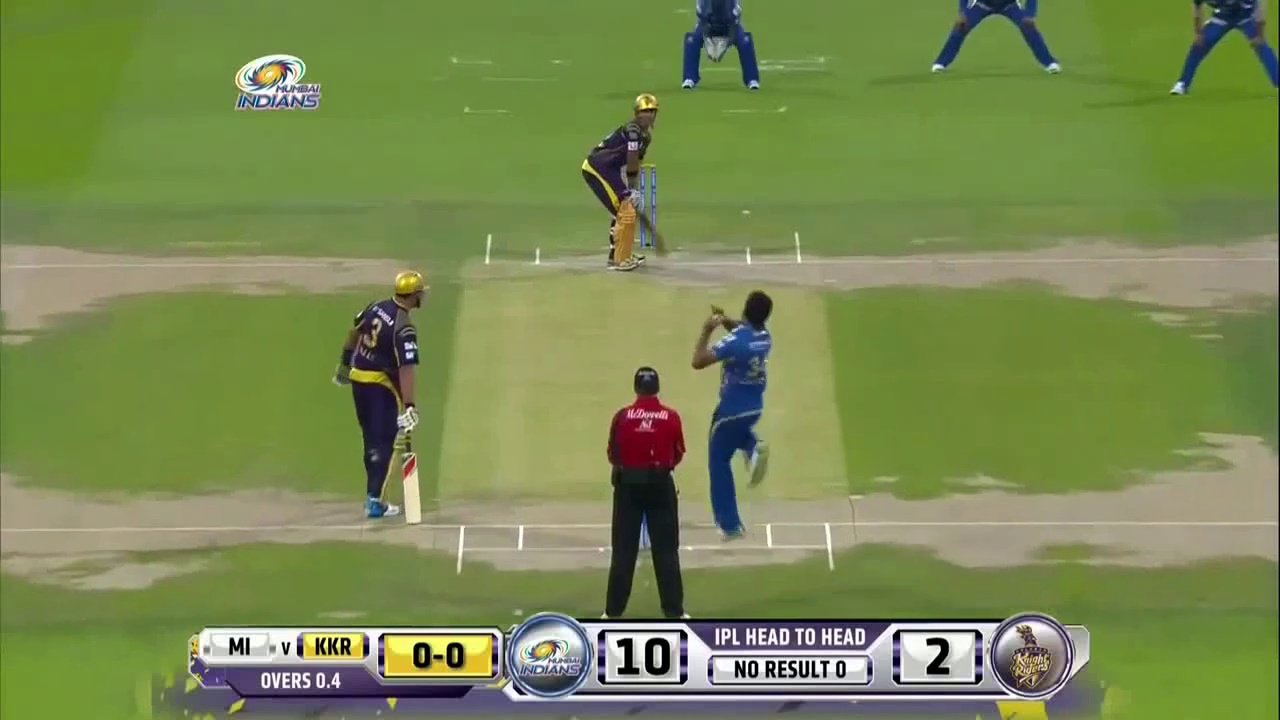bat: (400, 435, 423, 526)
